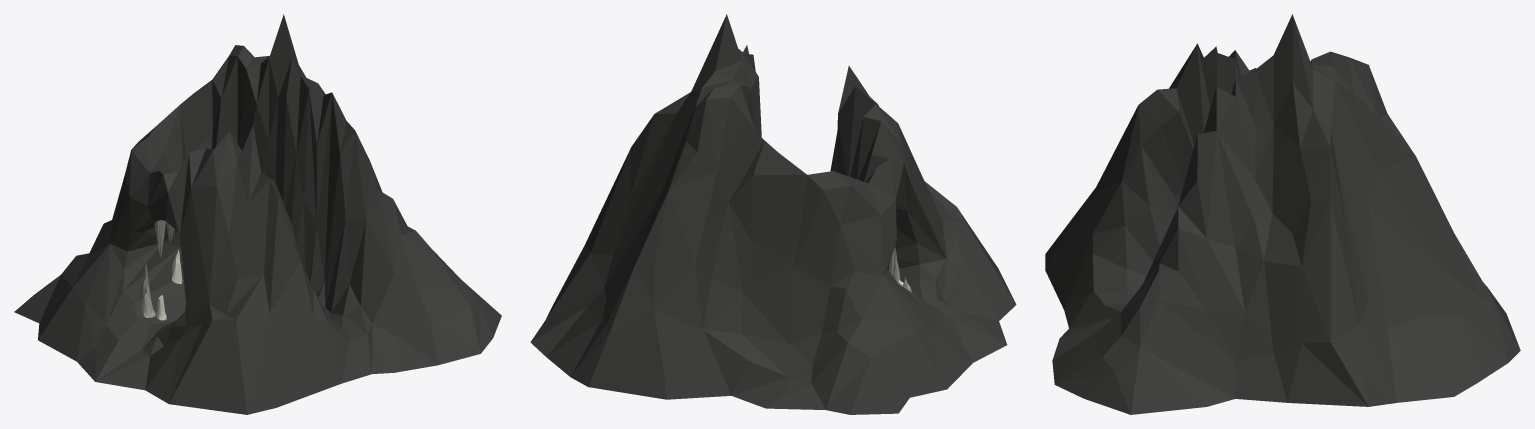
Rendered from DD_Mountain.fbx.
3 views of the same model, side by side, from view 1: azimuth 30°, elevation 25°; view 2: azimuth 150°, elevation 25°; view 3: azimuth 270°, elevation 25° (orthographic). The views are drawn at different scales.
Parts seen in each view (by area): view 1: DD_Mountain; view 2: DD_Mountain; view 3: DD_Mountain.
Part boxes in pixels (<box>): DD_Mountain: <box>14,14,501,414</box>; DD_Mountain: <box>530,14,1016,414</box>; DD_Mountain: <box>1045,14,1520,414</box>.
Size of the model in its own units: 510 by 372 by 500.
1 material, 1 textured.
